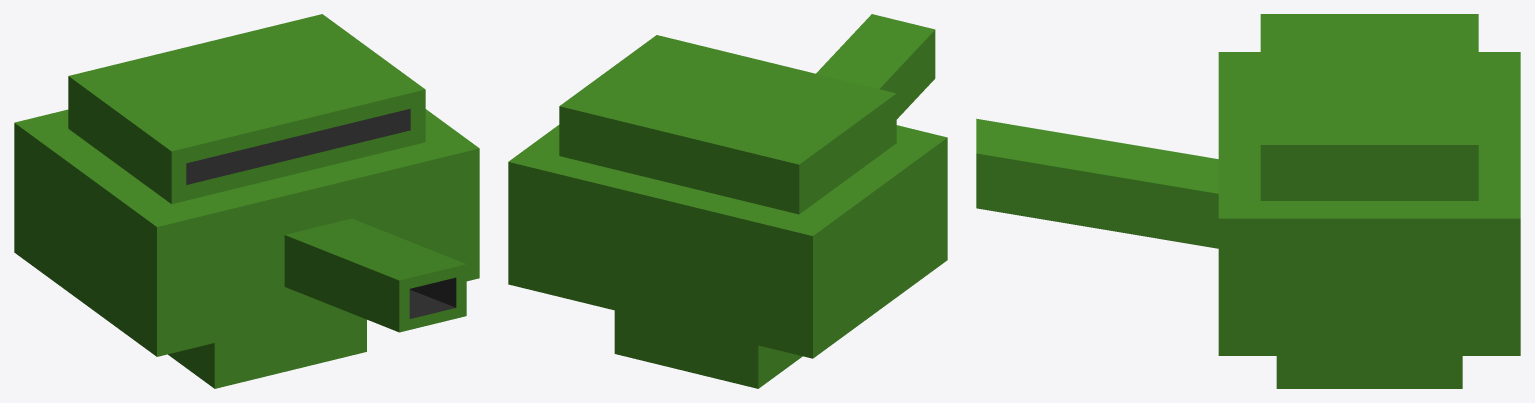
File: T principal.fbx
3 renders of one model, left to right at view 1: azimuth 30°, elevation 25°; view 2: azimuth 150°, elevation 25°; view 3: azimuth 270°, elevation 25°, orthographic. The views are drawn at different scales.
Parts seen in each view (by area): view 1: principal; view 2: principal; view 3: principal.
Part boxes in pixels (x1,y1,x2,y2): principal: (14, 14, 479, 388); principal: (508, 14, 947, 388); principal: (976, 14, 1520, 388).
Size of the model in its own units: 2.61 by 1.97 by 3.61.
